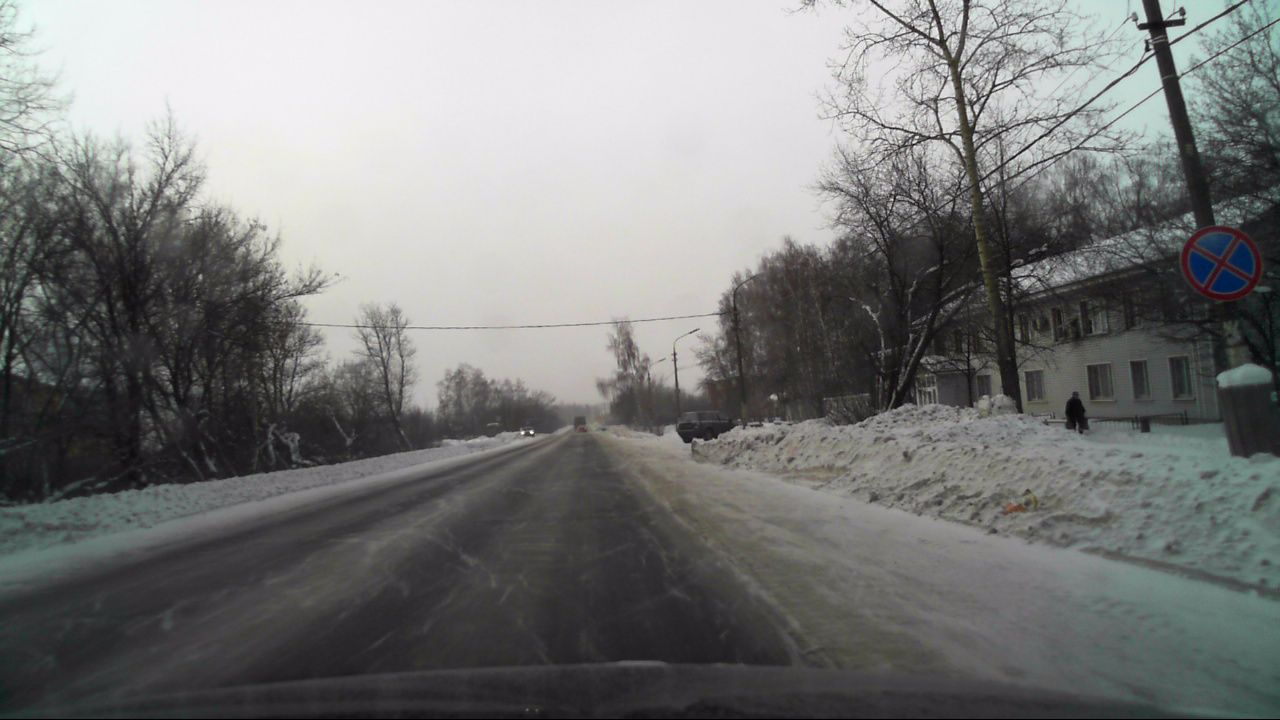No Parking: (1179, 222, 1262, 304)
